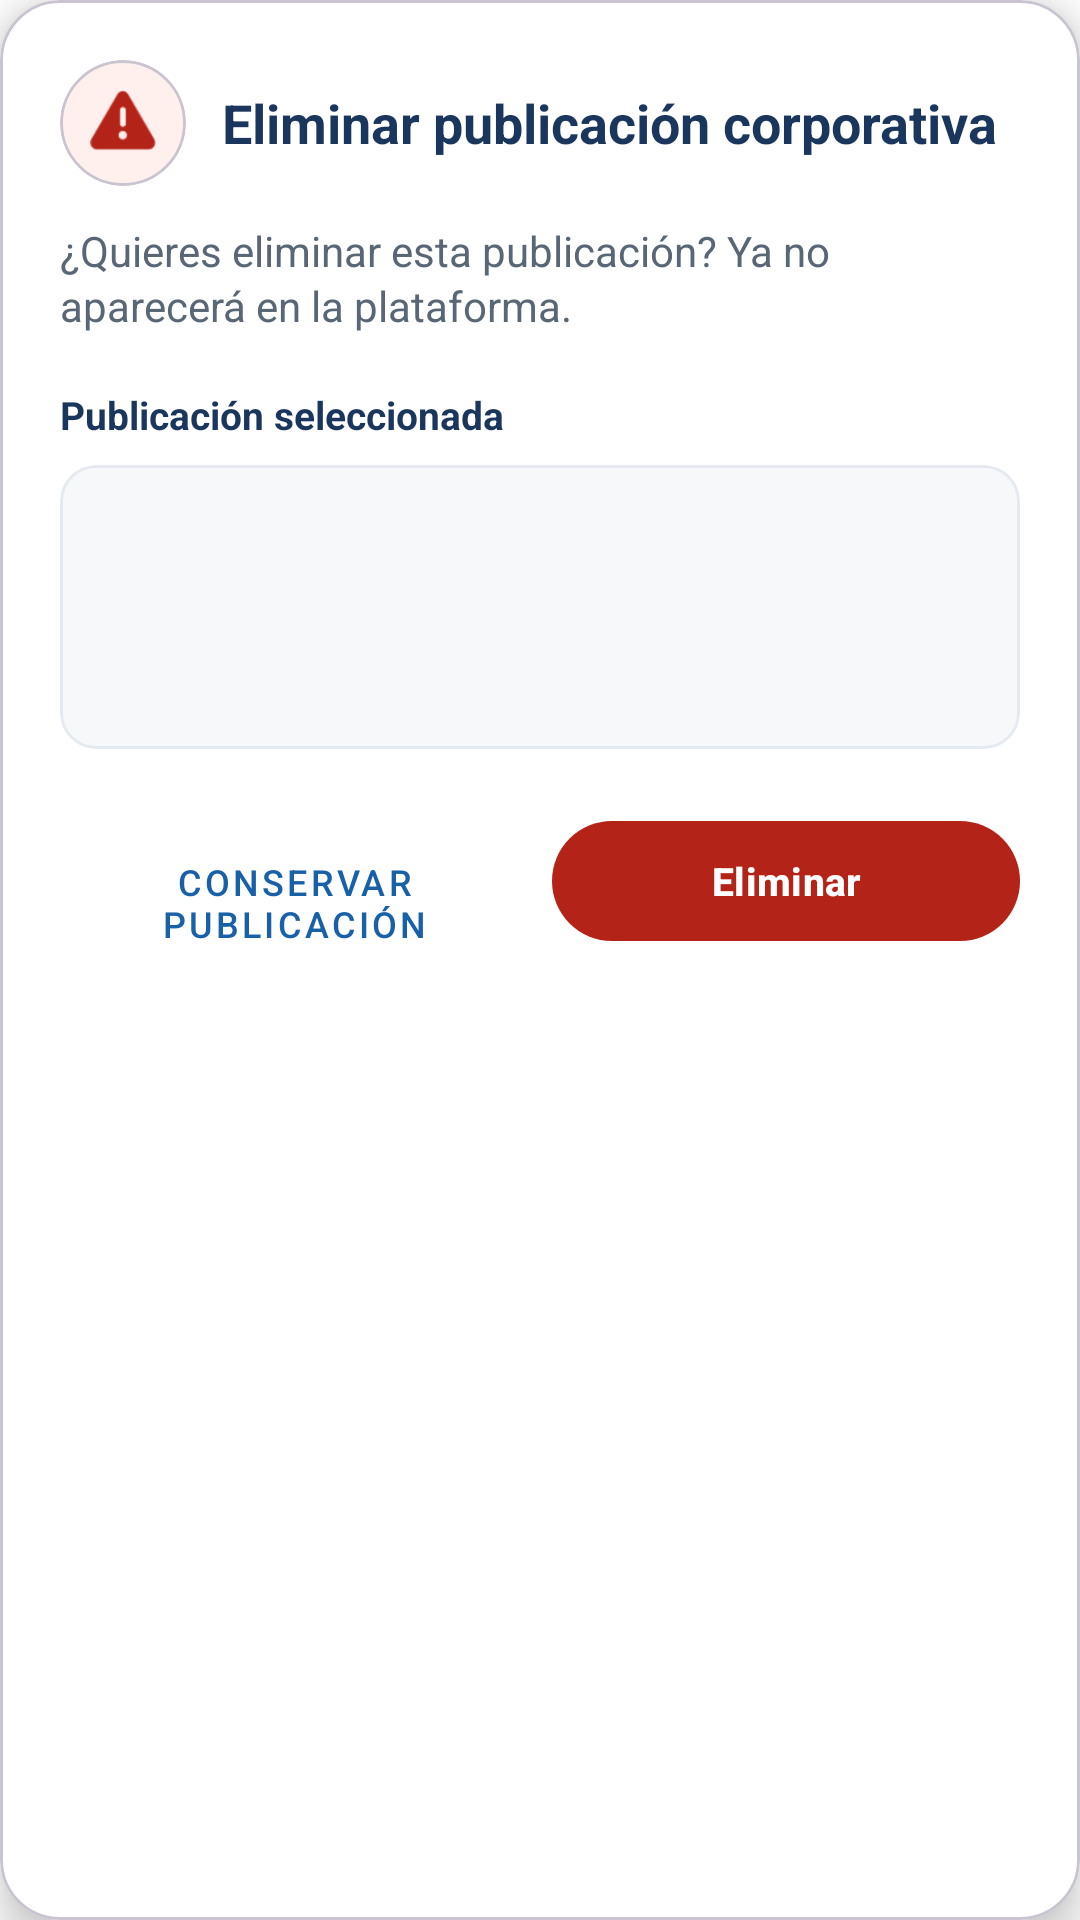

Screen size 1080x1920. Icon name, then its box in pixels as [x1,y1,x2,y2]:
alert: [60,60,186,186]
